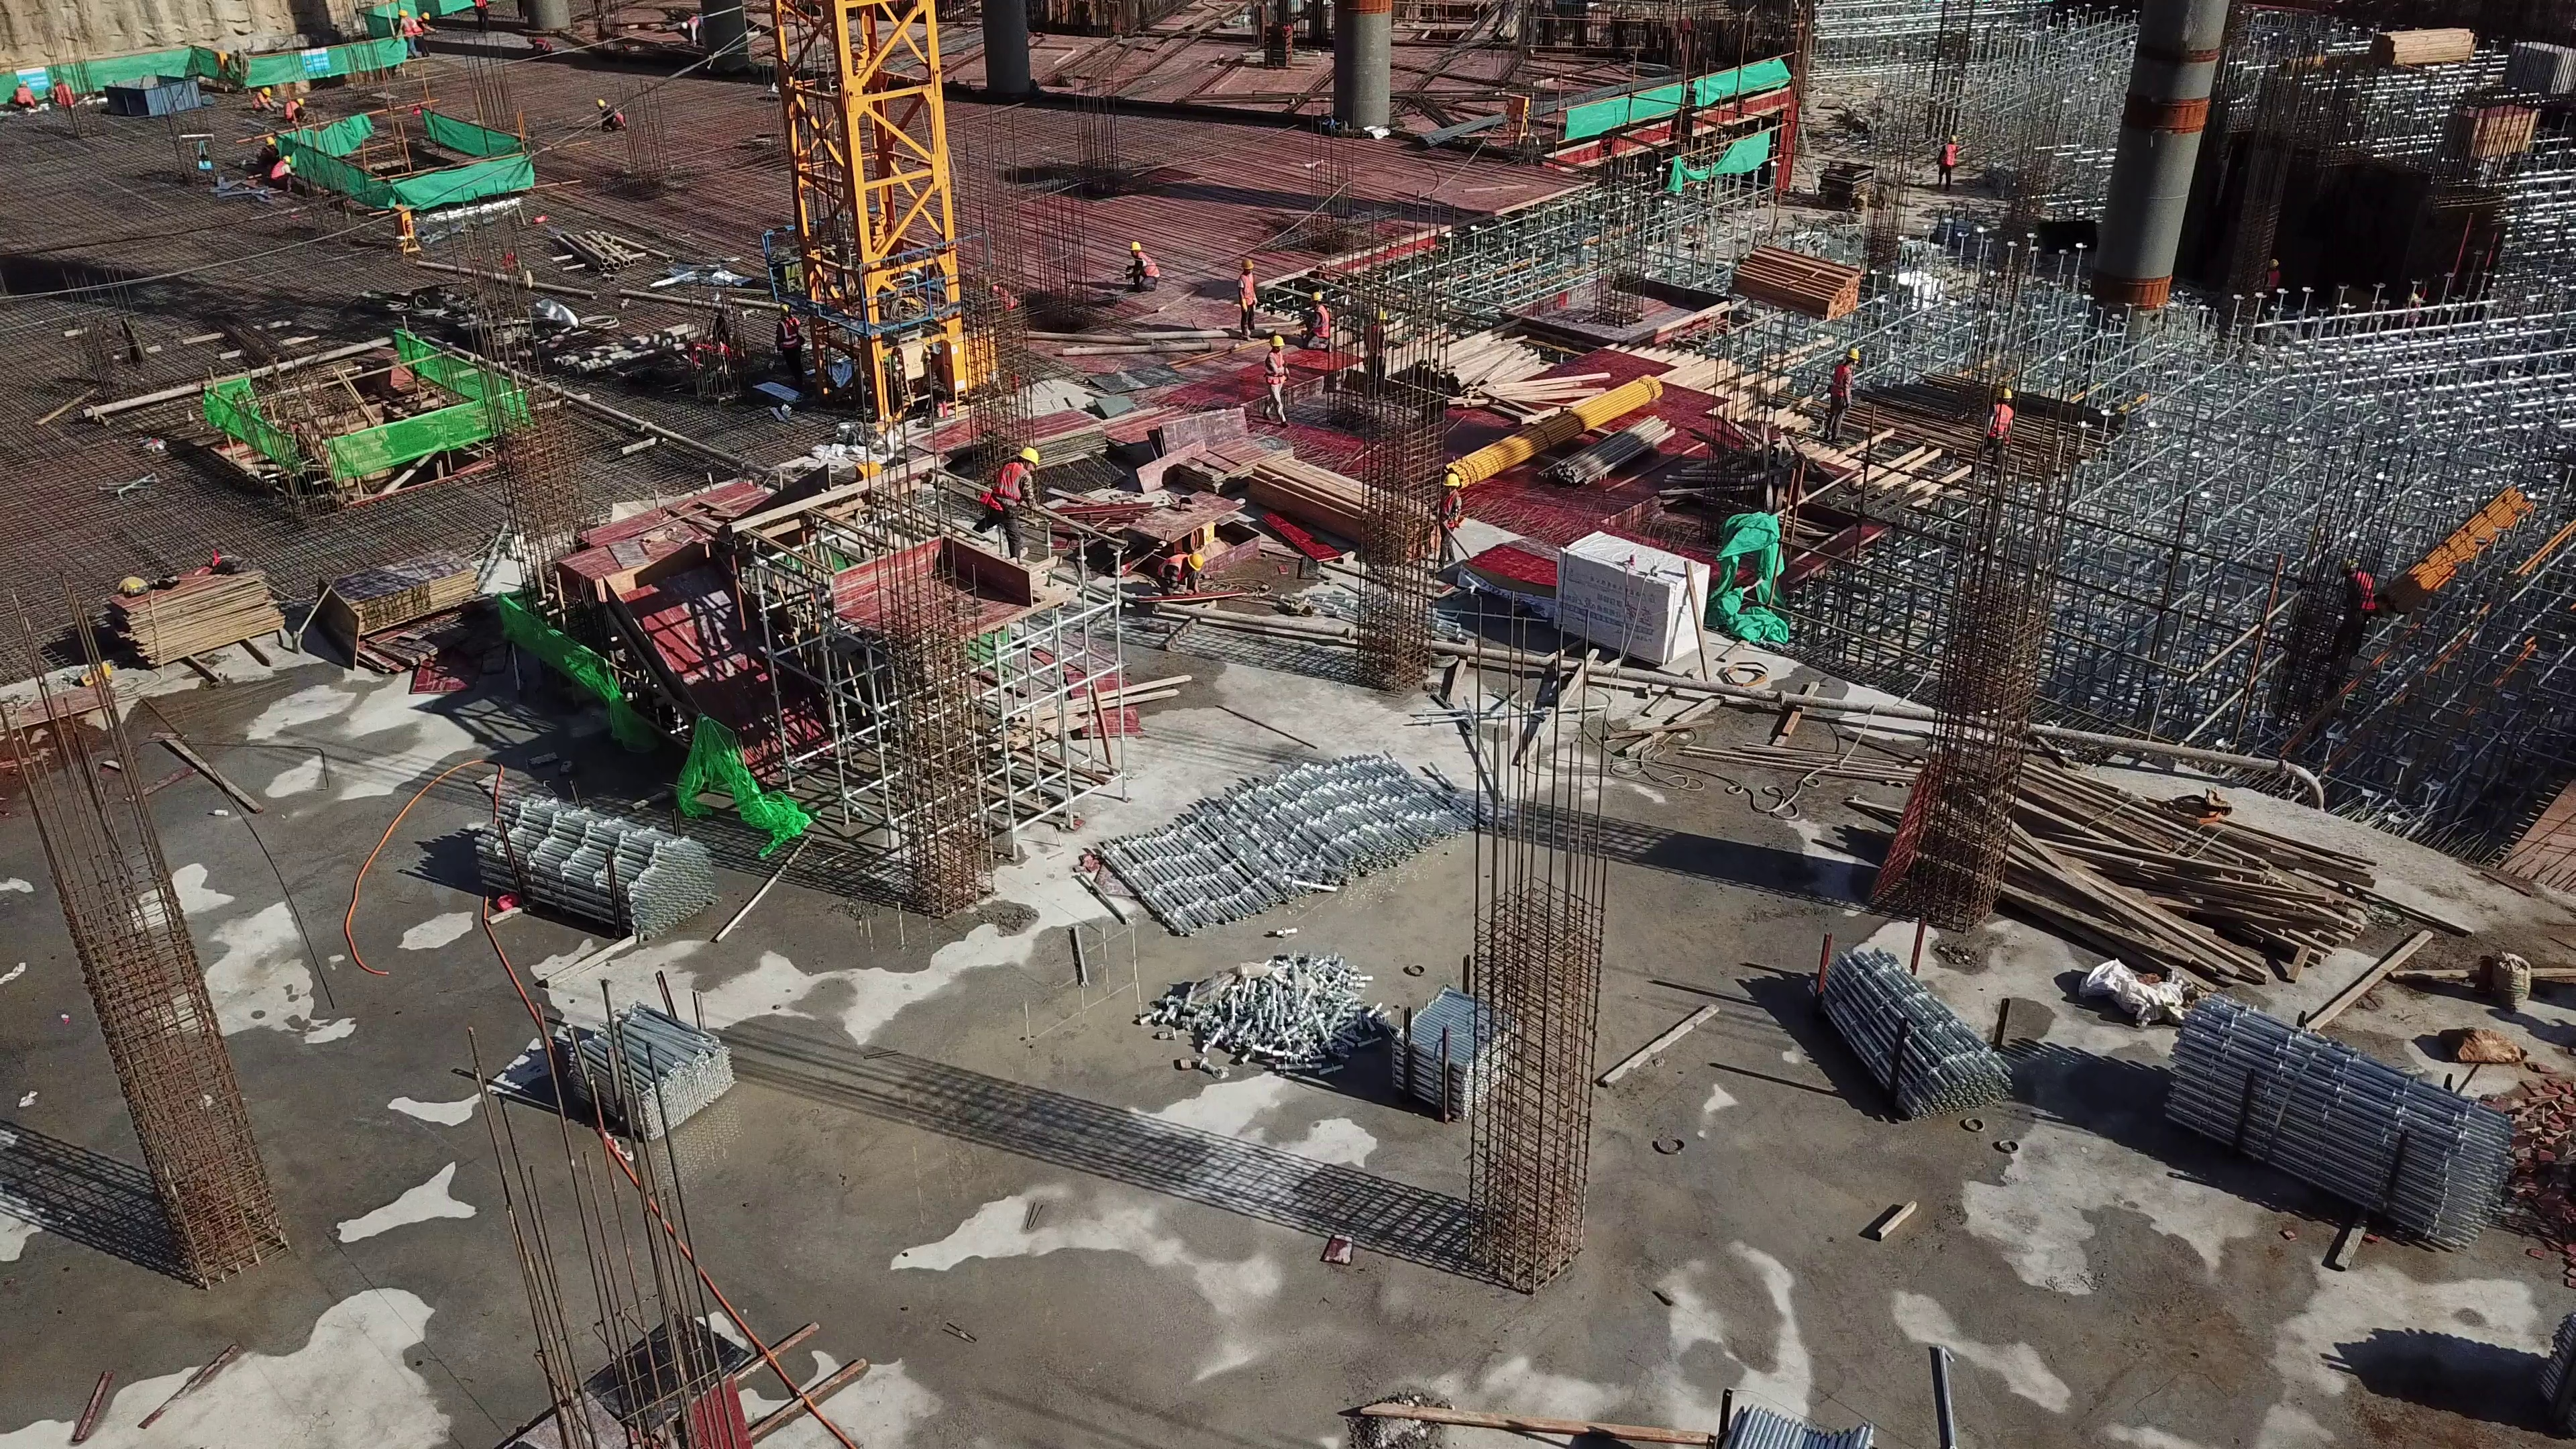board: (103, 555, 292, 682), (318, 542, 489, 665), (1180, 438, 1280, 489), (1156, 406, 1244, 449), (1044, 405, 1110, 462)
ebox: (934, 331, 1016, 398), (1504, 91, 1536, 144)
helmet: (1020, 445, 1040, 465), (1440, 471, 1462, 487), (2339, 555, 2358, 572), (1187, 552, 1203, 572), (1997, 386, 2015, 400), (1129, 241, 1144, 253), (780, 303, 795, 315), (1270, 335, 1286, 347), (1242, 257, 1255, 270), (263, 136, 276, 148), (281, 154, 294, 164), (397, 7, 409, 17), (1311, 291, 1324, 303), (2269, 258, 2282, 267), (421, 9, 431, 19), (596, 99, 609, 109), (1947, 133, 1957, 144), (262, 87, 271, 95), (297, 97, 306, 106), (528, 34, 534, 43)
person: (970, 437, 1044, 551), (2328, 541, 2397, 653), (1430, 469, 1473, 577), (772, 302, 813, 392), (1260, 333, 1293, 427), (1149, 546, 1207, 598), (1982, 386, 2017, 468), (1827, 344, 1856, 441), (1234, 256, 1263, 341), (1300, 287, 1338, 351), (1363, 307, 1393, 386), (1124, 239, 1161, 293), (1931, 126, 1963, 189), (392, 5, 420, 61), (416, 9, 447, 52), (592, 97, 629, 133), (252, 131, 287, 170), (516, 31, 558, 58), (267, 154, 297, 188), (255, 84, 278, 113), (285, 95, 309, 122)
scaffold: (2163, 976, 2490, 1250), (1108, 735, 1445, 935), (460, 786, 737, 941), (1821, 931, 1998, 1129)
vest: (981, 458, 1026, 519), (1828, 364, 1855, 406), (1158, 550, 1189, 583), (1985, 403, 2012, 439), (1440, 489, 1461, 529), (1132, 252, 1159, 279), (1265, 350, 1286, 383), (1237, 274, 1257, 308), (1311, 305, 1330, 339), (608, 108, 627, 131), (1940, 144, 1961, 165), (535, 35, 553, 52), (268, 162, 284, 180), (400, 21, 415, 38), (286, 99, 294, 121)
wood: (2017, 745, 2367, 983), (1252, 451, 1417, 552), (1412, 324, 1570, 414), (1731, 239, 1856, 320), (2375, 23, 2479, 66)
